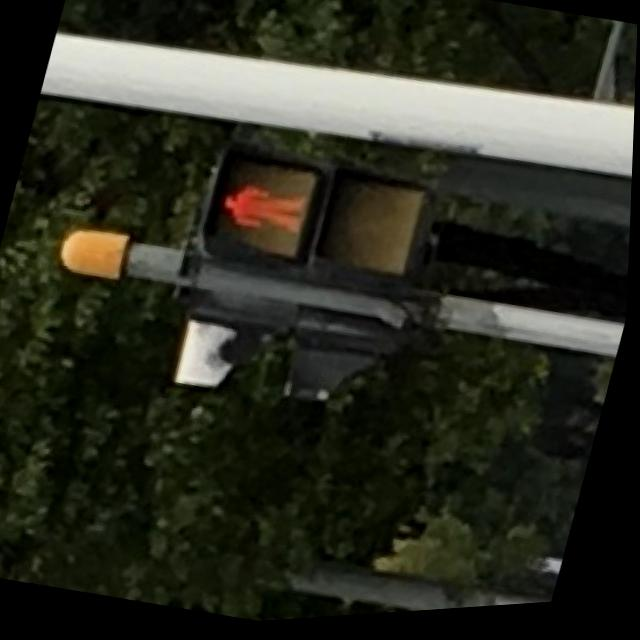red_light: (202, 155, 322, 264)
